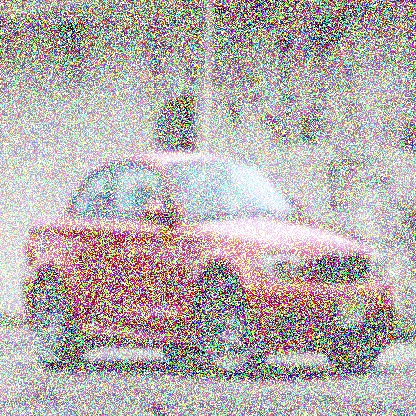Vehicle: (21, 150, 398, 382)
